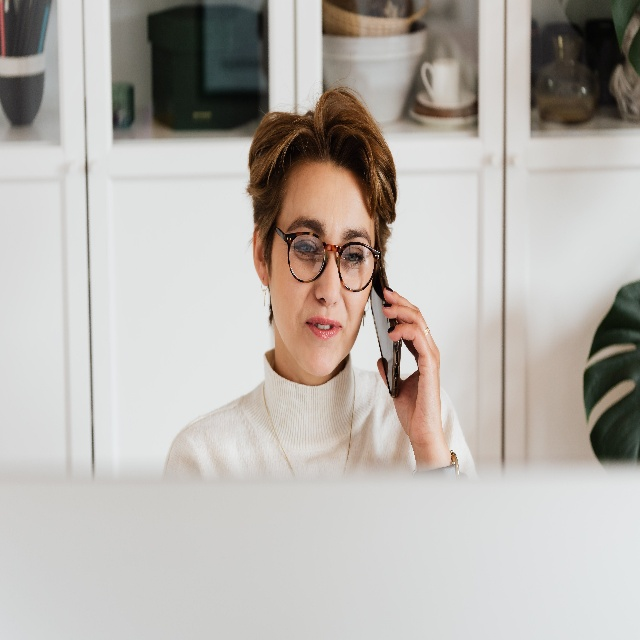Gafas: (274, 226, 382, 293)
Sin_guantes: (377, 283, 445, 446)
